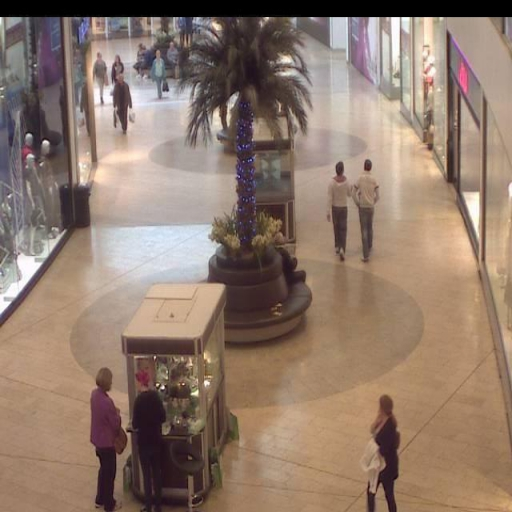person: (131, 369, 167, 512), (90, 365, 120, 512), (367, 392, 401, 512), (353, 155, 379, 262), (326, 158, 352, 258), (110, 72, 134, 133), (152, 47, 170, 98), (92, 52, 110, 102), (134, 44, 147, 77), (167, 40, 179, 72), (113, 53, 124, 75)
